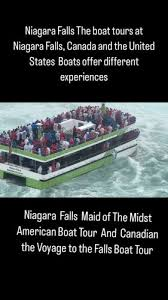boat: (1, 104, 141, 190)
